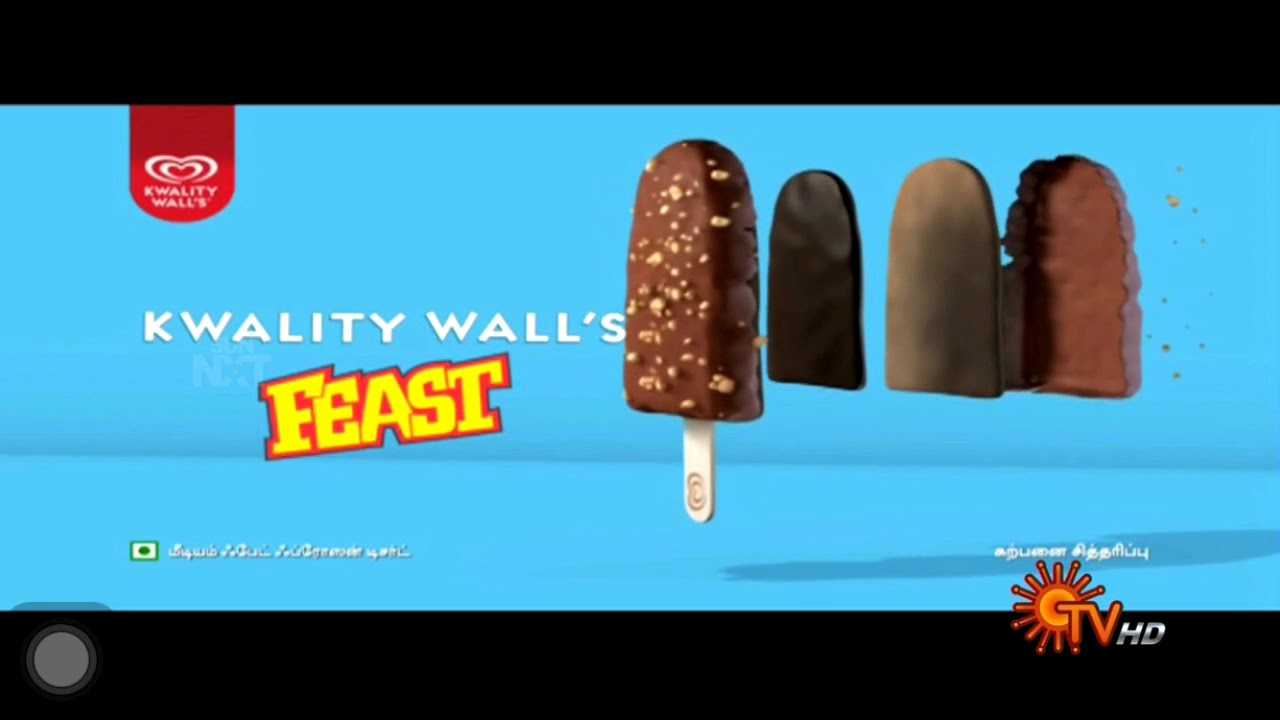Kwality_Walls: (129, 150, 234, 193)
